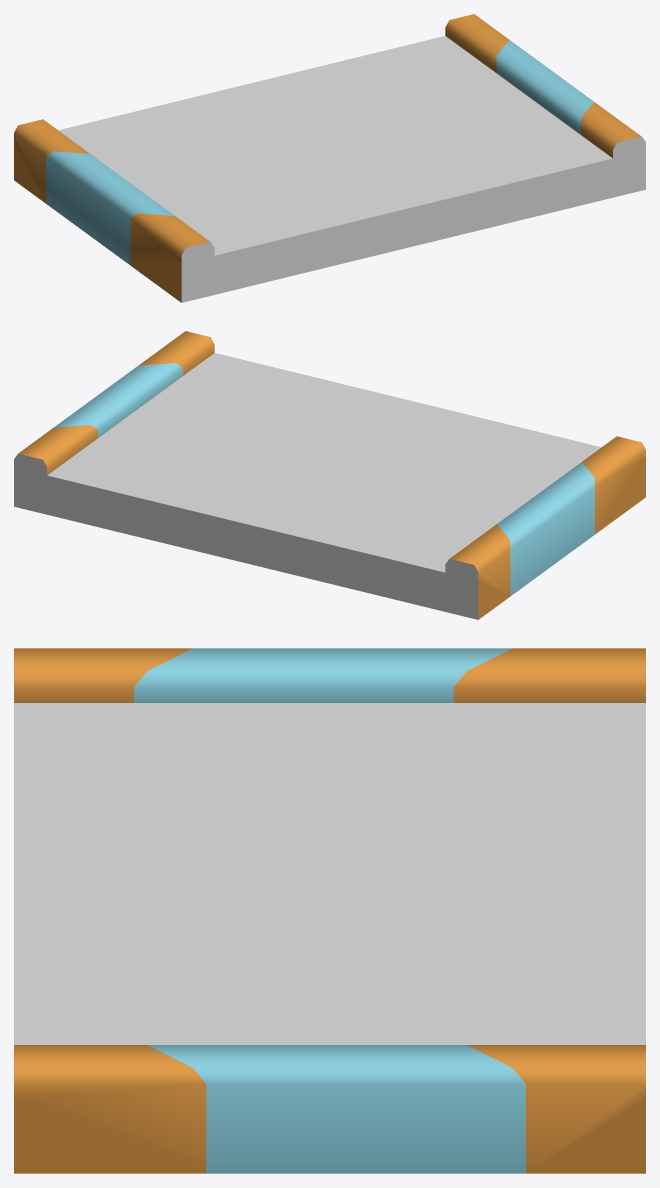
The model's file is Ground.fbx.
3 renders of one model, top to bottom at view 1: azimuth 30°, elevation 25°; view 2: azimuth 150°, elevation 25°; view 3: azimuth 270°, elevation 25°, orthographic. The views are drawn at different scales.
Parts seen in each view (by area): view 1: ground; view 2: ground; view 3: ground.
Boxes of the visible parts, x1,y1,x2,y2 form: ground: (14,14,645,302); ground: (14,331,645,619); ground: (14,648,645,1173).
Size of the model in its own units: 360 by 40 by 225.
